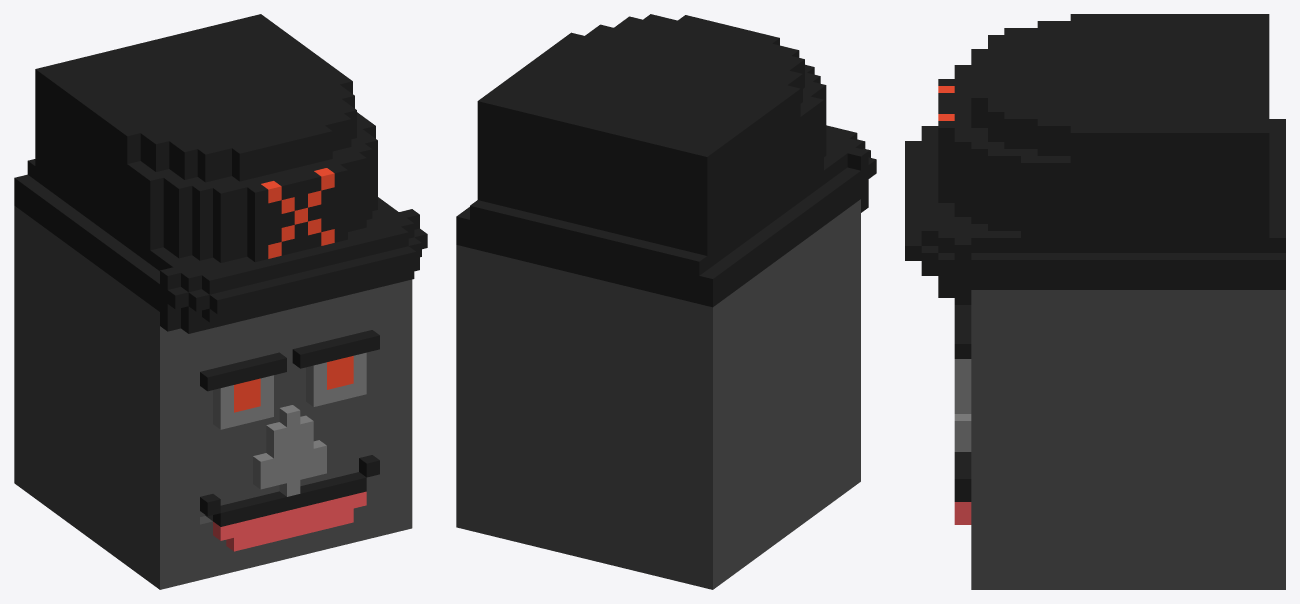
Rendered from Requester-1.obj.
The picture shows the model from 3 angles, left to right: view 1: azimuth 30°, elevation 25°; view 2: azimuth 150°, elevation 25°; view 3: azimuth 270°, elevation 25°; orthographic projection. The views are drawn at different scales.
Bounding box in the file's own units: 1.9 × 3 × 2.3.
Materials: 1 (1 with a texture image).
